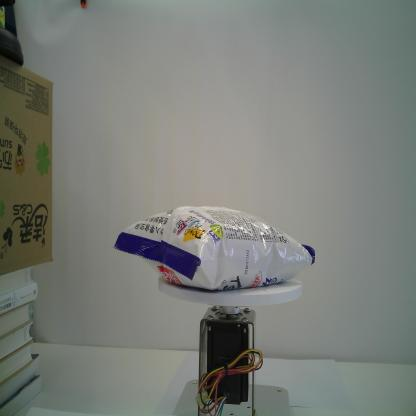Puffed Food: (112, 204, 315, 291)
